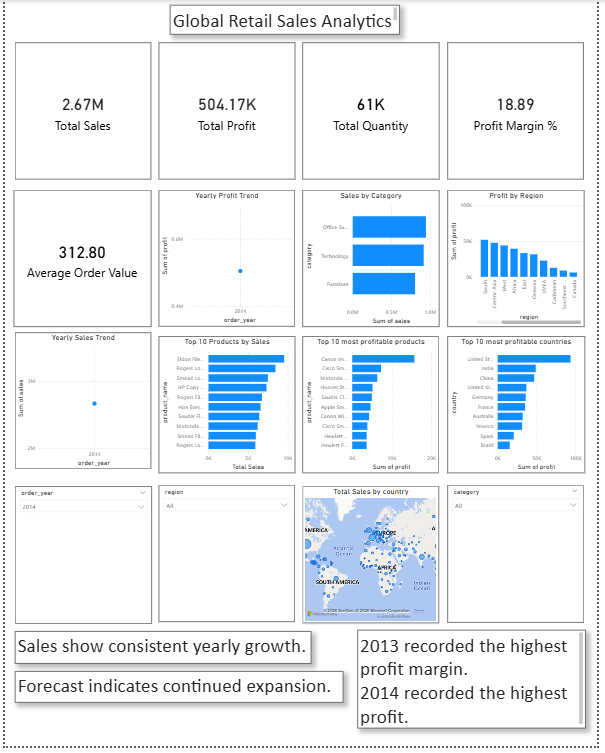

The page's visual inventory and layout, read from the dashboard file:
{"tool":"powerbi","page":{"name":"Page 1","canvas":[1300,1640],"ordinal":0},"visuals":[{"type":"card","fields":{"Values":["Retail_Sales.Total Profit"]},"box":[338,93,300,301],"z":0},{"type":"card","fields":{"Values":["Retail_Sales.Total Quantity"]},"box":[653,93,301,301],"z":1000},{"type":"lineChart","title":"Yearly Sales Trend","fields":{"Category":["Retail_Sales.order_year"],"Y":["Sum(Retail_Sales.sales)"]},"box":[21,731,299,300],"z":2000},{"type":"lineChart","title":"Yearly Profit Trend","fields":{"Category":["Retail_Sales.order_year"],"Y":["Sum(Retail_Sales.profit)"]},"box":[338,418,299,300],"z":3000},{"type":"clusteredBarChart","title":"Sales by Category","fields":{"Category":["Retail_Sales.category"],"Y":["Sum(Retail_Sales.sales)"]},"box":[654,417,301,301],"z":4000},{"type":"clusteredColumnChart","title":"Profit by Region","fields":{"Category":["Retail_Sales.region"],"Y":["Sum(Retail_Sales.profit)"]},"box":[973,417,301,301],"z":5000},{"type":"slicer","fields":{"Values":["Retail_Sales.order_year"]},"box":[21,1068,301,302],"z":6000},{"type":"slicer","fields":{"Values":["Retail_Sales.region"]},"box":[339,1067,299,301],"z":7000},{"type":"slicer","fields":{"Values":["Retail_Sales.category"]},"box":[974,1067,300,302],"z":8000},{"type":"barChart","title":"Top 10 most profitable products","fields":{"Y":["Sum(Retail_Sales.profit)"],"Category":["Retail_Sales.product_name"]},"box":[654,740,300,301],"z":9000},{"type":"barChart","title":"Top 10 most profitable countries","fields":{"Y":["Sum(Retail_Sales.profit)"],"Category":["Retail_Sales.country"]},"box":[972,739,302,301],"z":10000},{"type":"card","fields":{"Values":["Retail_Sales.Total Sales"]},"box":[23,93,299,301],"z":11000},{"type":"card","fields":{"Values":["Retail_Sales.Profit Margin %"]},"box":[972,93,299,301],"z":12000},{"type":"clusteredBarChart","title":"Top 10 Products by Sales","fields":{"Category":["Retail_Sales.product_name"],"Y":["Retail_Sales.Total Sales"]},"box":[338,740,300,301],"z":13000},{"type":"map","fields":{"Category":["Retail_Sales.country"],"Size":["Retail_Sales.Total Sales"]},"box":[654,1068,300,301],"z":14000},{"type":"card","fields":{"Values":["Retail_Sales.Average Order Value"]},"box":[18,417,302,301],"z":15000},{"type":"textbox","box":[364,11,505,65],"z":16000},{"type":"textbox","box":[22.5,1387.5,651.2,71.2],"z":16001},{"type":"textbox","box":[22.5,1476.2,721.2,68.8],"z":16002},{"type":"textbox","box":[773.8,1383.8,501.2,216.2],"z":16003}]}

Visuals, with their boxes in screenshot pixels (x1, y1, x2, y2), scaled from the page's 1300x1640 canvas onto the 605x753 screenshot:
card - Retail_Sales.Total Profit: locate(157, 43, 297, 181)
card - Retail_Sales.Total Quantity: locate(304, 43, 444, 181)
"Yearly Sales Trend" lineChart: locate(10, 336, 149, 473)
"Yearly Profit Trend" lineChart: locate(157, 192, 296, 330)
"Sales by Category" clusteredBarChart: locate(304, 191, 444, 330)
"Profit by Region" clusteredColumnChart: locate(453, 191, 593, 330)
slicer - Retail_Sales.order_year: locate(10, 490, 150, 629)
slicer - Retail_Sales.region: locate(158, 490, 297, 628)
slicer - Retail_Sales.category: locate(453, 490, 593, 629)
"Top 10 most profitable products" barChart: locate(304, 340, 444, 478)
"Top 10 most profitable countries" barChart: locate(452, 339, 593, 478)
card - Retail_Sales.Total Sales: locate(11, 43, 150, 181)
card - Retail_Sales.Profit Margin %: locate(452, 43, 592, 181)
"Top 10 Products by Sales" clusteredBarChart: locate(157, 340, 297, 478)
map - Retail_Sales.country x Retail_Sales.Total Sales: locate(304, 490, 444, 629)
card - Retail_Sales.Average Order Value: locate(8, 191, 149, 330)
textbox: locate(169, 5, 404, 35)
textbox: locate(10, 637, 314, 670)
textbox: locate(10, 678, 346, 709)
textbox: locate(360, 635, 593, 735)
